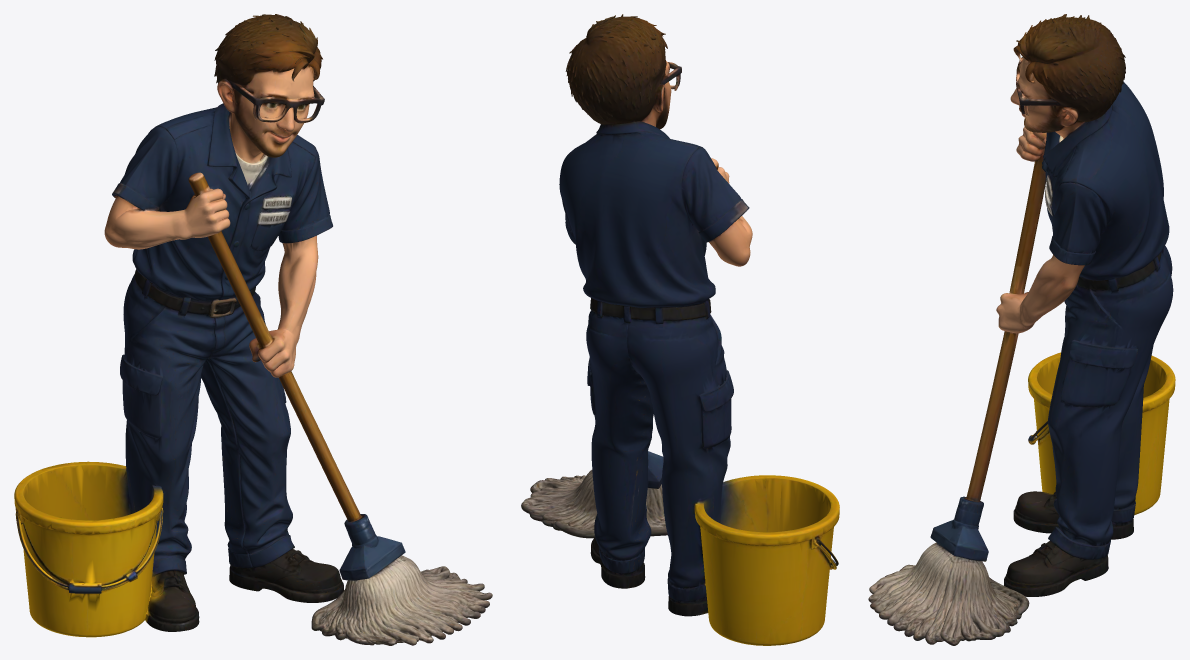
Rendered from janitor-mopbucket.glb.
The picture shows the model from 3 angles, left to right: view 1: azimuth 30°, elevation 25°; view 2: azimuth 150°, elevation 25°; view 3: azimuth 270°, elevation 25°; orthographic projection. The views are drawn at different scales.
Parts seen in each view (by area): view 1: node_0; view 2: node_0; view 3: node_0.
Part boxes in pixels (<box>): node_0: <box>14,14,492,645</box>; node_0: <box>521,14,839,645</box>; node_0: <box>868,14,1175,645</box>.
Size of the model in its own units: 0.6851 by 0.9608 by 0.481.
1 material, 1 textured.
